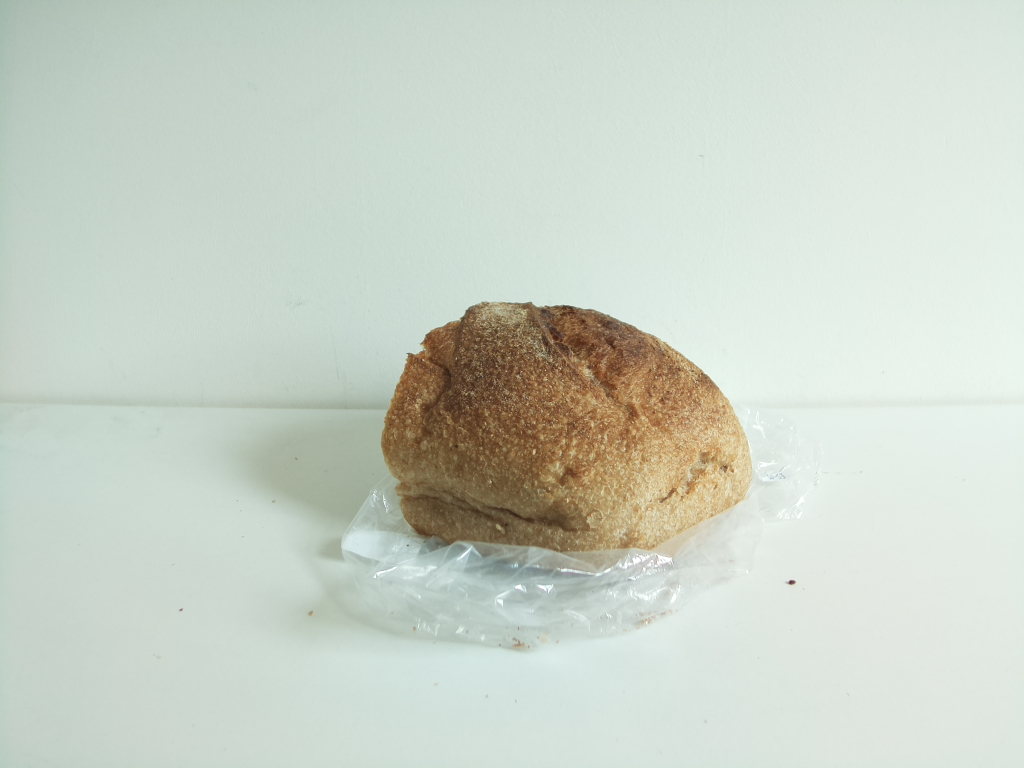bread: (382, 298, 752, 556)
